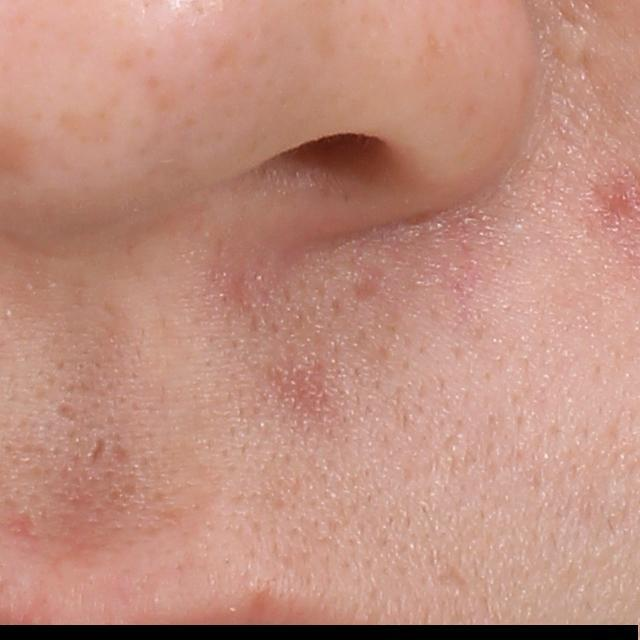atrophic_scar: (91, 438, 106, 461)
